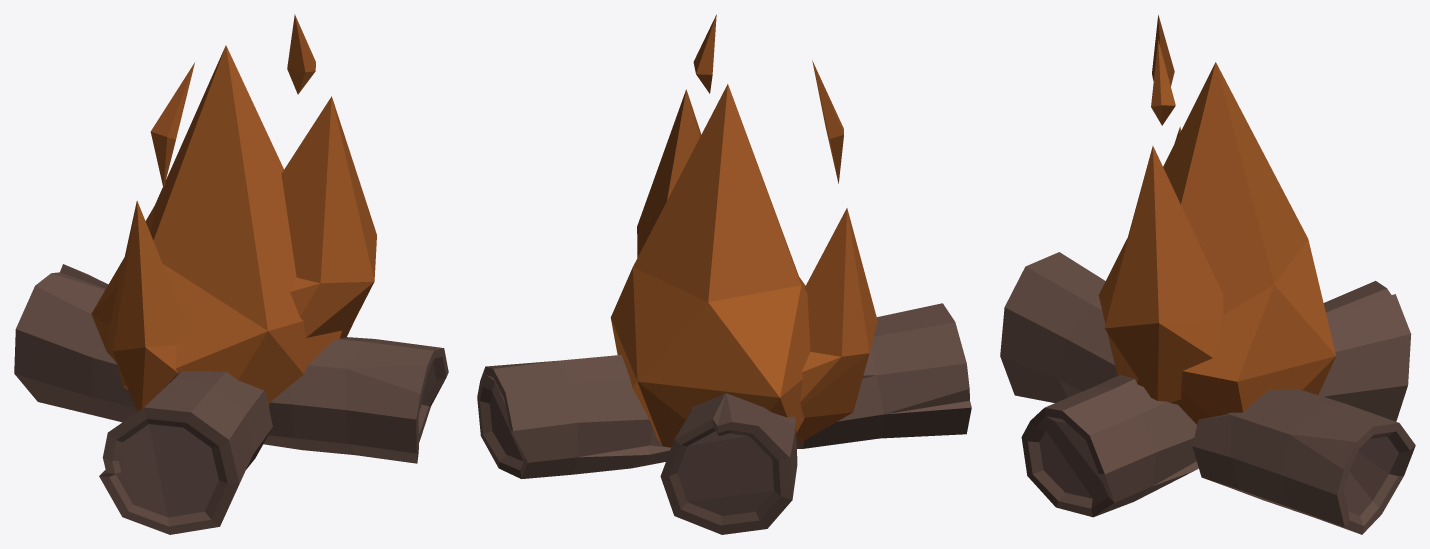
The model's file is Bonfire.glb.
The picture shows the model from 3 angles, left to right: view 1: azimuth 30°, elevation 25°; view 2: azimuth 150°, elevation 25°; view 3: azimuth 270°, elevation 25°; orthographic projection. The views are drawn at different scales.
Visible parts, largest first — view 1: Bonfire_Fire; view 2: Bonfire_Fire; view 3: Bonfire_Fire.
Part boxes in pixels (bbox=[...]): Bonfire_Fire: bbox=[14, 14, 448, 534]; Bonfire_Fire: bbox=[477, 14, 971, 534]; Bonfire_Fire: bbox=[1000, 15, 1415, 534].
Bounding box in the file's own units: 2.18 × 2.31 × 1.98.
